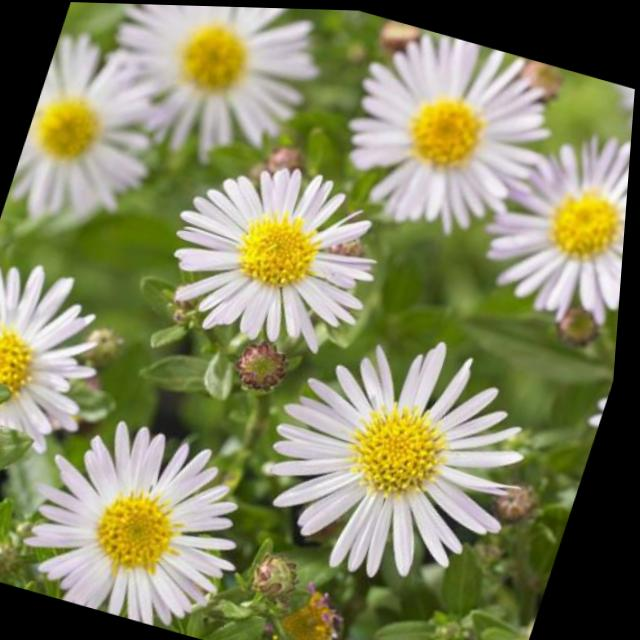Flower: (253, 306, 566, 603), (0, 395, 272, 637), (316, 18, 573, 253), (154, 133, 413, 363), (441, 101, 635, 340), (88, 2, 344, 179), (0, 37, 189, 257), (0, 251, 135, 474)
